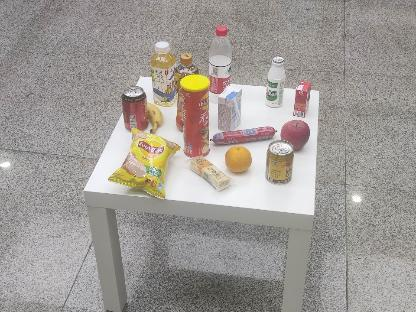Can: (266, 140, 294, 184), (122, 86, 148, 132)
Others: (178, 74, 212, 158), (215, 84, 245, 132), (291, 79, 313, 119)
Plastic Bottle: (208, 25, 233, 95)
